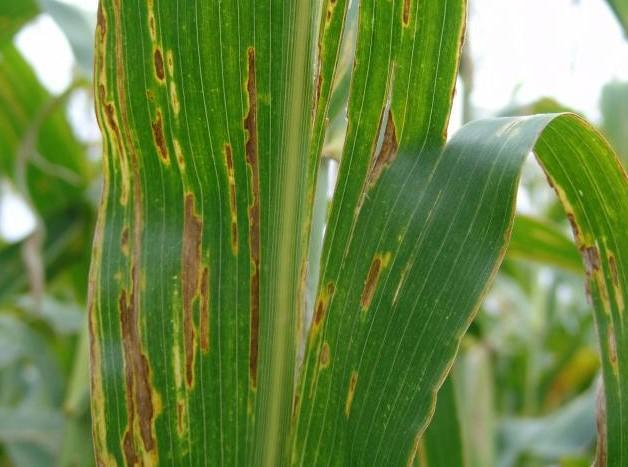Corn_Blight: (81, 0, 180, 462), (204, 12, 271, 402), (533, 162, 620, 436), (318, 257, 406, 397), (362, 94, 418, 219), (308, 6, 341, 196)
